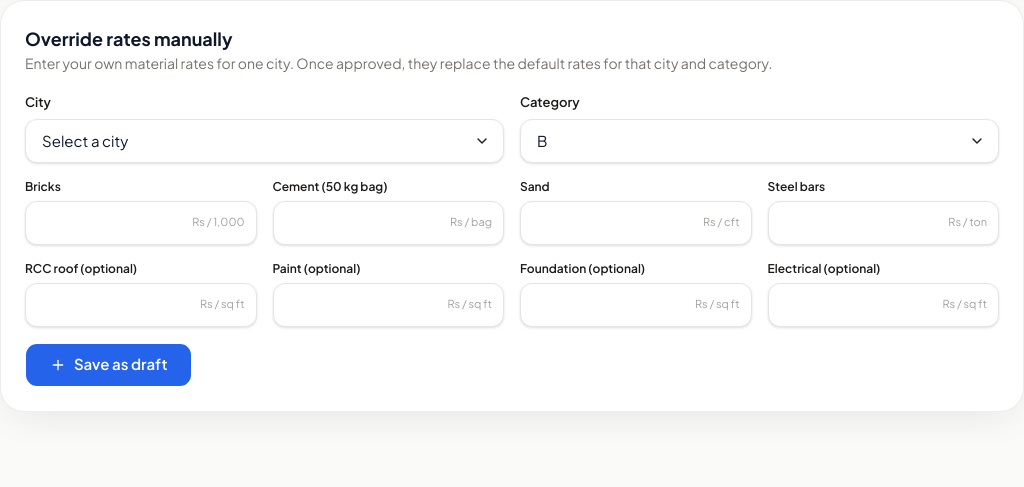
ManualRateForm › rejects a non-positive rate
Select "Karachi" in the dropdown labelled "City": (264, 140) [25,118,504,162]
In the number field labelled "Bricks": (141, 222) [25,200,256,244], type "20000"
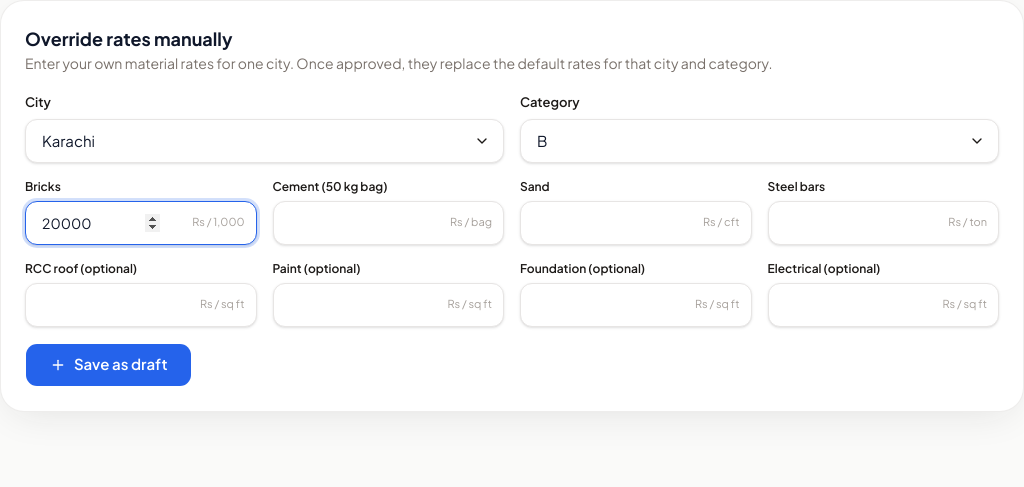
In the number field labelled "Cement (50 kg bag)": (388, 222) [272,200,504,244], type "1400"
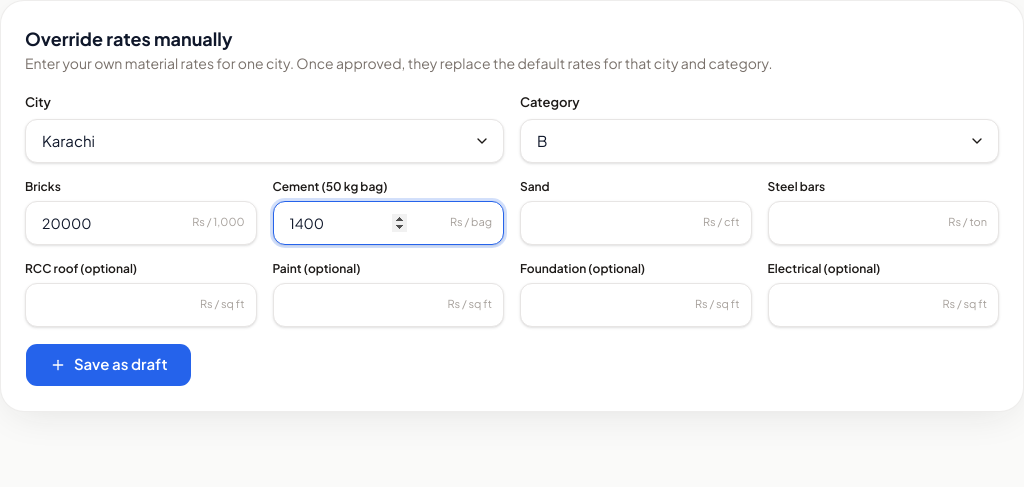
In the number field labelled "Sand": (636, 222) [520,200,752,244], type "60"
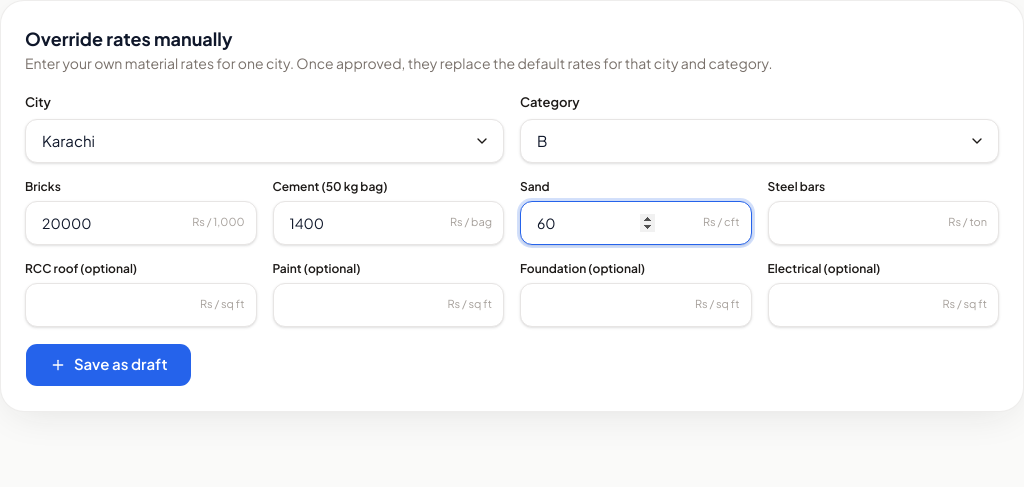
In the number field labelled "Steel bars": (883, 222) [768,200,999,244], type "260000"
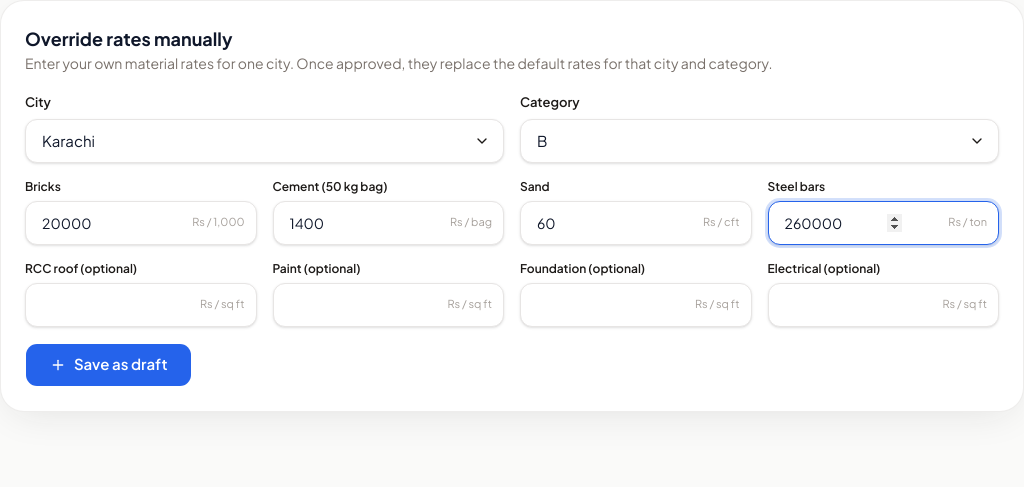
Replace the text in the number field labelled "Bricks" with "-5": (141, 222) [25,200,256,244]
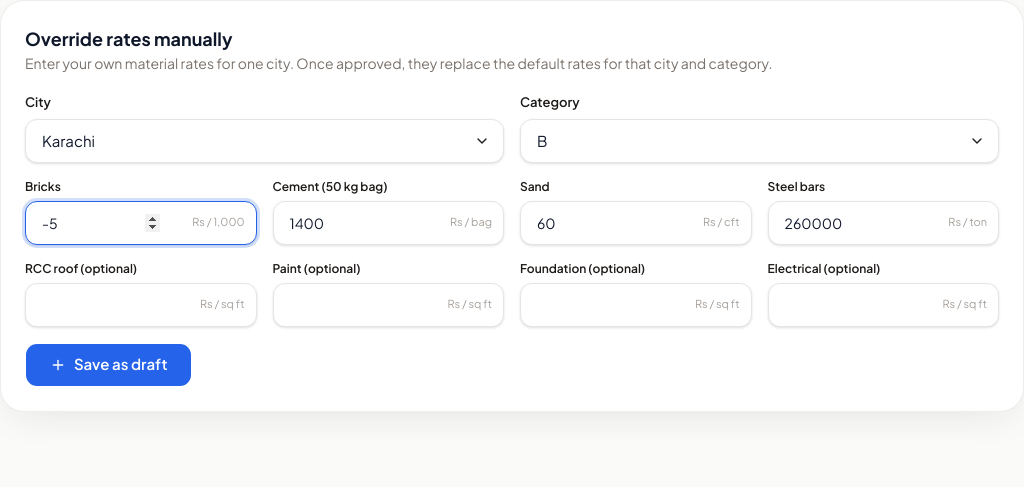
Click the button "Save as draft": click(109, 364) [25,342,192,386]
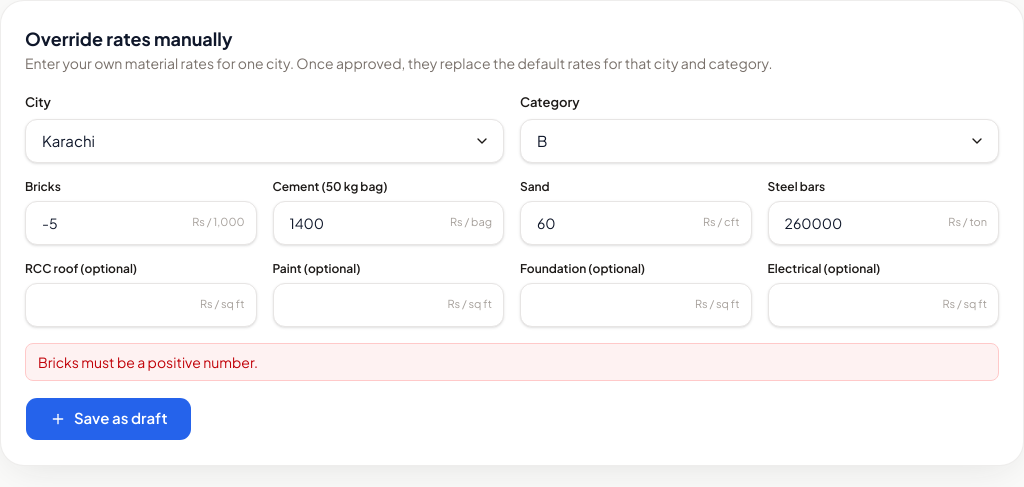
Result: the message reads "Bricks must be a positive number." at [38,352,258,370]
